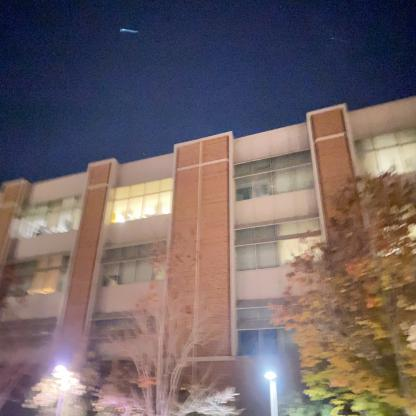eb2: (0, 122, 415, 376)
